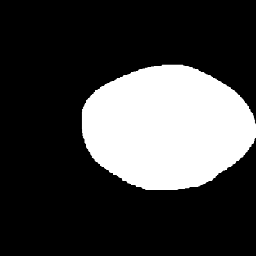mass: (73, 53, 246, 190)
